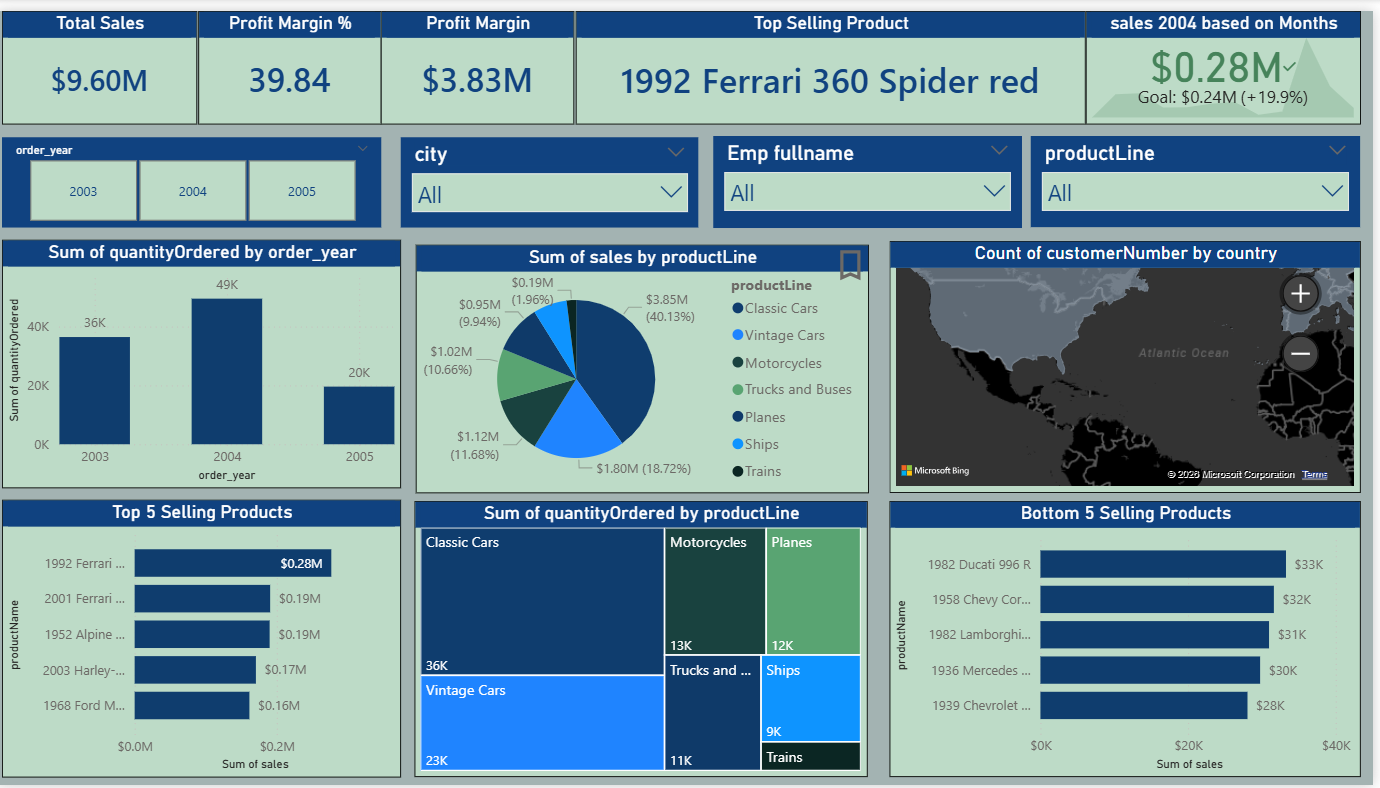

What the dashboard file says about the page in this screenshot:
{"tool":"powerbi","page":{"name":"Page 1","canvas":[1280,720],"ordinal":0},"visuals":[{"type":"barChart","title":"Top 5 Selling Products","fields":{"Category":["products.productName"],"Y":["Sum(order details.sales)"]},"box":[4.3,454.3,371.4,258.6],"z":0},{"type":"filledMap","title":"Count of customerNumber by country","fields":{"Category":["customers.country"]},"box":[830,214.3,438.6,234.3],"z":1000},{"type":"pieChart","fields":{"Category":["products.productLine"],"Y":["Sum(order details.sales)"]},"box":[390,217.1,421.4,231.4],"z":2000},{"type":"cardVisual","title":"Top Selling Product","fields":{"Data":["customers.MostOrderedProduct"]},"box":[538.6,0,474.3,105.7],"z":3000},{"type":"cardVisual","title":"Profit Margin","fields":{"Data":["order details.Total_profit"]},"box":[357.1,0,180,105.7],"z":4000},{"type":"kpi","title":"sales 2004 based on Months","fields":{"TrendLine":["orders.Month Name"],"Goal":["orders.sales_2003"],"Indicator":["orders.sales_2004"]},"box":[1012.9,0,255.7,105.7],"z":5000},{"type":"treemap","fields":{"Values":["Sum(order details.quantityOrdered)"],"Group":["productlines.productLine"]},"box":[388.6,455.7,421.4,257.1],"z":6000},{"type":"columnChart","fields":{"Category":["orders.order_year"],"Y":["Sum(order details.quantityOrdered)"]},"box":[4.3,212.9,371.4,231.4],"z":7000},{"type":"cardVisual","title":"Profit Margin %","fields":{"Data":["customers.Profit_margin_%"]},"box":[187.1,0,170,105.7],"z":8000},{"type":"slicer","fields":{"Values":["orders.order_year"]},"box":[4.3,117.1,352.9,84.3],"z":9000},{"type":"slicer","fields":{"Values":["offices.city"]},"box":[375.7,117.1,277.1,84.3],"z":10000},{"type":"slicer","fields":{"Values":["employees.fullname"]},"box":[665.7,115.7,287.1,85.7],"z":11000},{"type":"slicer","fields":{"Values":["productlines.productLine"]},"box":[961.9,116,306.2,85],"z":12000},{"type":"barChart","title":"Bottom 5 Selling Products","fields":{"Category":["products.productName"],"Y":["Sum(order details.sales)"]},"box":[830,455.7,438.6,257.1],"z":13000},{"type":"cardVisual","title":"Total Sales","fields":{"Data":["Sum(order details.sales)"]},"box":[4.3,0,181.4,105.7],"z":14000},{"type":"actionButton","box":[775,216.7,36.7,40],"z":15000}]}

Visuals, with their boxes in screenshot pixels (x1, y1, x2, y2), scaled from the page's 1280x720 canvas onto the 1380x788 screenshot:
"Top 5 Selling Products" barChart: 5/497/405/780
"Count of customerNumber by country" filledMap: 895/235/1368/491
pieChart - products.productLine x Sum(order details.sales): 420/238/875/491
"Top Selling Product" cardVisual: 581/0/1092/116
"Profit Margin" cardVisual: 385/0/579/116
"sales 2004 based on Months" kpi: 1092/0/1368/116
treemap - Sum(order details.quantityOrdered) x productlines.productLine: 419/499/873/780
columnChart - orders.order_year x Sum(order details.quantityOrdered): 5/233/405/486
"Profit Margin %" cardVisual: 202/0/385/116
slicer - orders.order_year: 5/128/385/220
slicer - offices.city: 405/128/704/220
slicer - employees.fullname: 718/127/1027/220
slicer - productlines.productLine: 1037/127/1367/220
"Bottom 5 Selling Products" barChart: 895/499/1368/780
"Total Sales" cardVisual: 5/0/200/116
actionButton: 836/237/875/281
